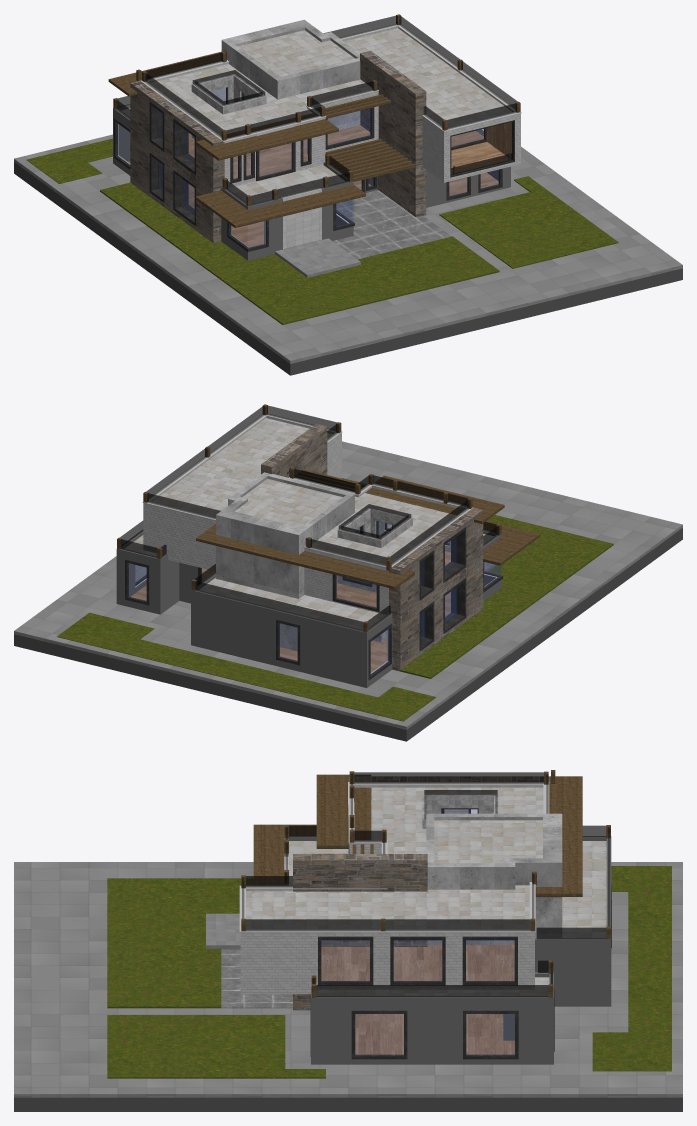
Rendered from villa.glb.
The picture shows the model from 3 angles, top to bottom: view 1: azimuth 30°, elevation 25°; view 2: azimuth 150°, elevation 25°; view 3: azimuth 270°, elevation 25°; orthographic projection. The views are drawn at different scales.
Visible parts, largest first — view 1: Box019, Line016, Line006, Box018, Line015, Box016, Box015, Line001_14 - Polished Aluminum_0, Line005, Line007, Line014, Line019 (+22 smaller); view 2: Box019, Line001_14 - Polished Aluminum_0, Line006, Line016, Box018, Line007, Line017, Box016, Line005, Line019, Line012, Line013 (+20 smaller); view 3: Box019, Line001_14 - Polished Aluminum_0, Line006, Line016, Line015, Line017, Line005, Box018, Line007, Box015, Line012, Line009 (+25 smaller).
Boxes of the visible parts, x1,y1,x2,y2 form: Box019: (14, 134, 682, 363); Line016: (100, 182, 499, 324); Line006: (150, 28, 511, 134); Box018: (14, 162, 682, 375); Line015: (439, 176, 618, 268); Box016: (130, 81, 224, 242); Box015: (360, 50, 426, 216); Line001_14 - Polished Aluminum_0: (113, 104, 510, 260); Line005: (148, 26, 520, 187); Line007: (221, 19, 360, 130); Line014: (332, 190, 451, 259); Line019: (300, 15, 517, 129); Box019: (14, 441, 682, 729); Line001_14 - Polished Aluminum_0: (116, 530, 501, 687); Line006: (152, 418, 456, 564); Line016: (400, 515, 613, 678); Box018: (14, 528, 682, 741); Line007: (216, 472, 354, 651); Line017: (57, 612, 436, 721); Box016: (389, 507, 483, 671); Line005: (143, 416, 465, 614); Line019: (146, 405, 393, 518); Line012: (125, 524, 493, 629); Line013: (235, 479, 342, 527); Box019: (14, 862, 682, 1097); Line001_14 - Polished Aluminum_0: (284, 836, 611, 1064); Line006: (246, 787, 543, 928); Line016: (107, 878, 253, 1008); Line015: (107, 1015, 325, 1078); Line017: (592, 866, 671, 1071); Line005: (240, 785, 543, 994); Box018: (14, 1097, 682, 1111); Line007: (426, 813, 562, 944); Box015: (293, 854, 427, 1010); Line012: (288, 841, 606, 995); Line009: (321, 945, 514, 980).
Bounding box in the file's own units: 31.4 × 10.6 × 38.27.
18 materials, 13 textured.
